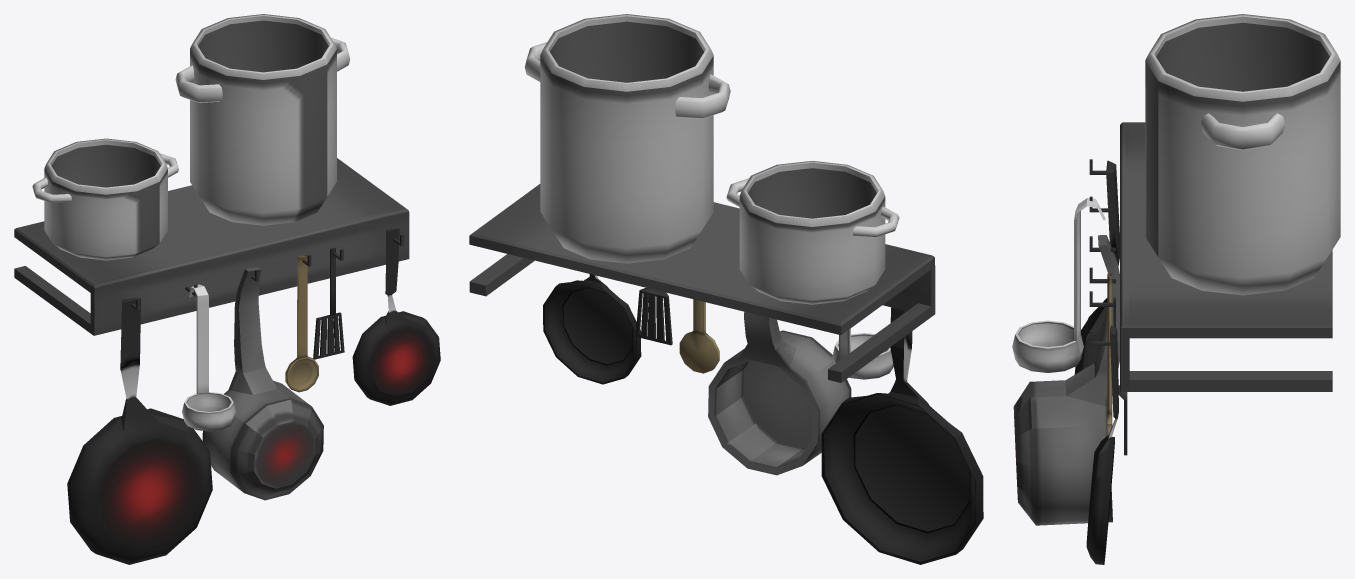
File: PanRack.fbx
The picture shows the model from 3 angles, left to right: view 1: azimuth 30°, elevation 25°; view 2: azimuth 150°, elevation 25°; view 3: azimuth 270°, elevation 25°; orthographic projection. The views are drawn at different scales.
Parts seen in each view (by area): view 1: PanRack; view 2: PanRack; view 3: PanRack.
Boxes of the visible parts, <box> form: PanRack: <box>14,14,440,564</box>; PanRack: <box>469,14,983,564</box>; PanRack: <box>1012,14,1340,564</box>.
Size of the model in its own units: 7.75 by 8.62 by 4.49.
